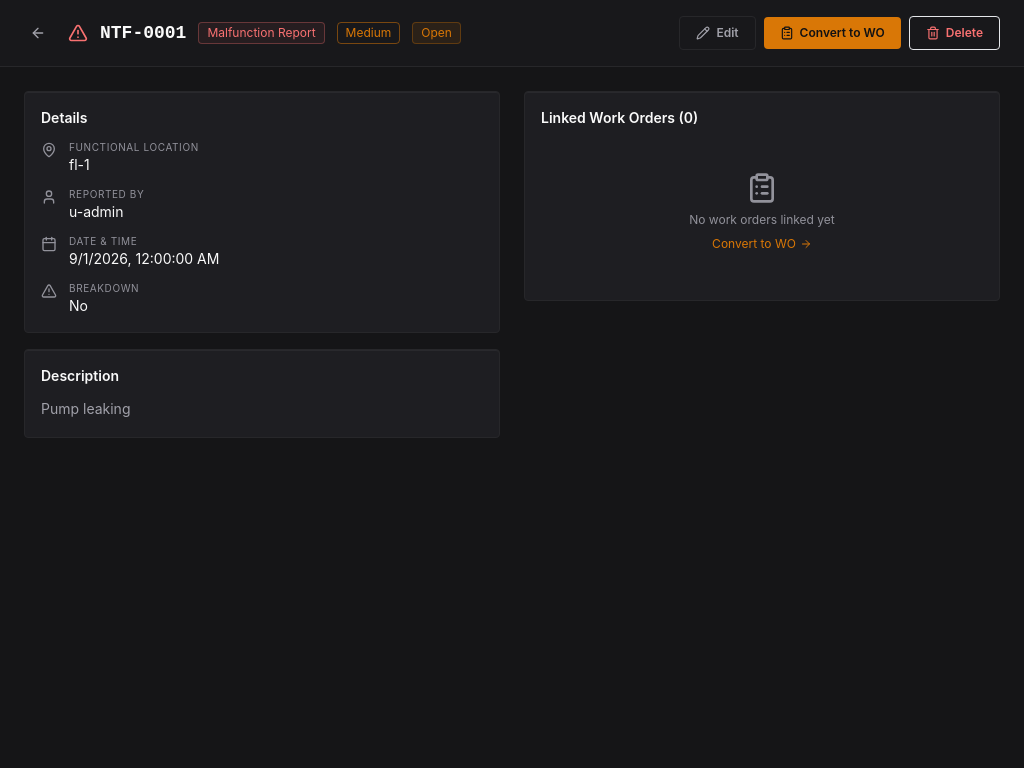
NotificationDetailPage edit (G9) › surfaces the API rejection and keeps the edit form open
Click the button "Edit" at (718, 33), box [680,16,756,50]
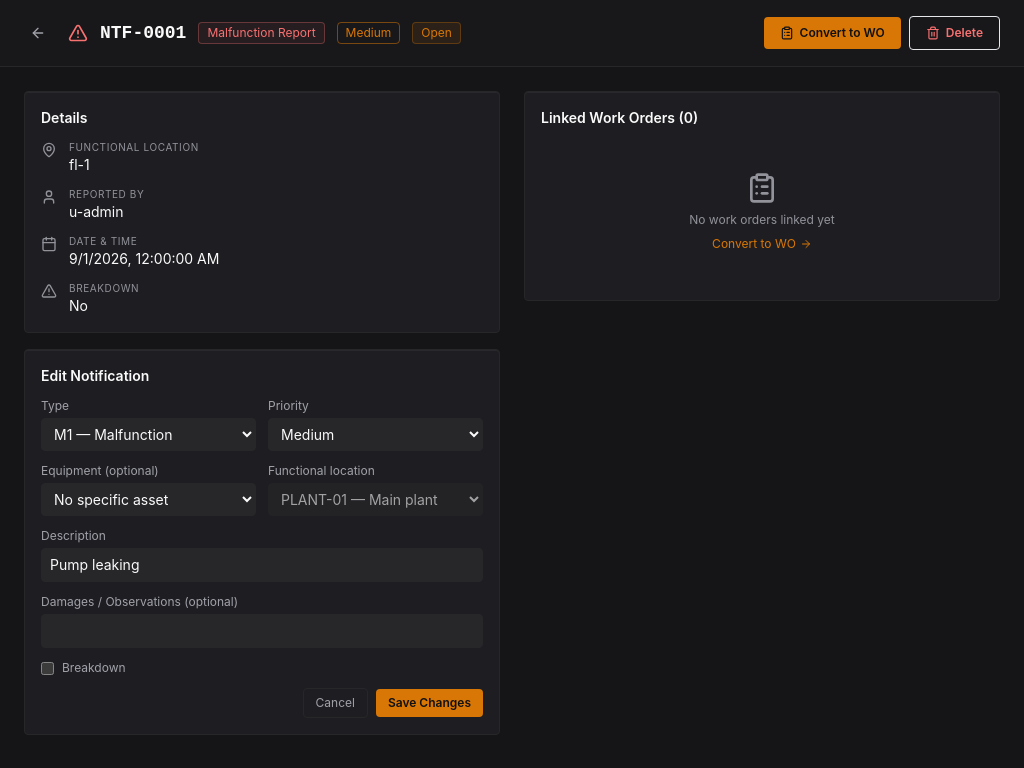
Replace the text in the field named "Notification description" with "Valid length text" at (262, 565), box [41,548,483,582]
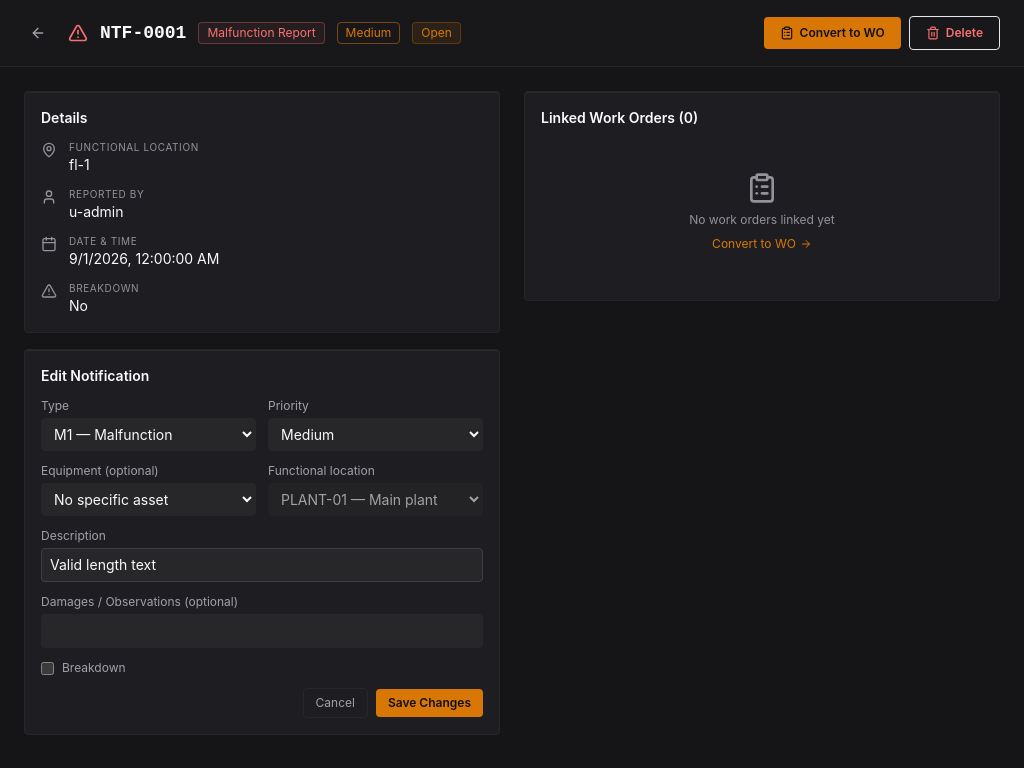
Click the button "Save Changes" at (429, 703), box [376,689,483,717]
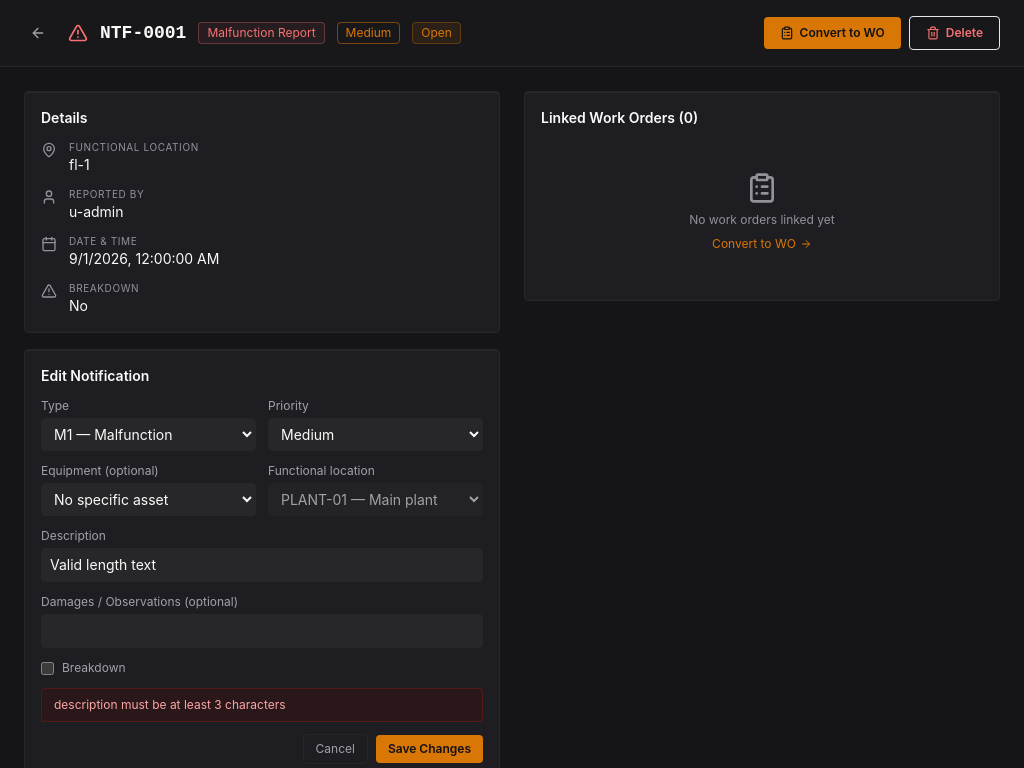
Expected: the button "Save Changes" is shown, [376,735,483,763]
Expected: the message reads "description must be at least 3 characters", [54,697,286,712]
